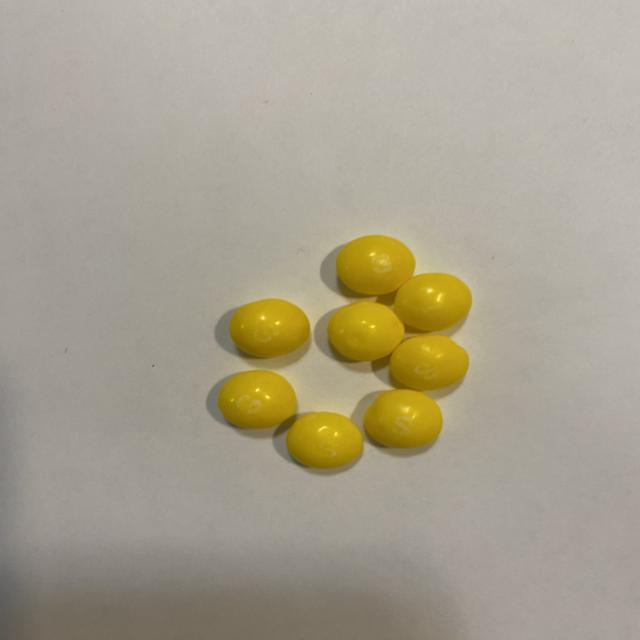smartie: (364, 335, 469, 449), (336, 235, 415, 295), (229, 299, 309, 357), (327, 301, 404, 361), (218, 370, 295, 429), (394, 273, 472, 331), (286, 412, 363, 469)
